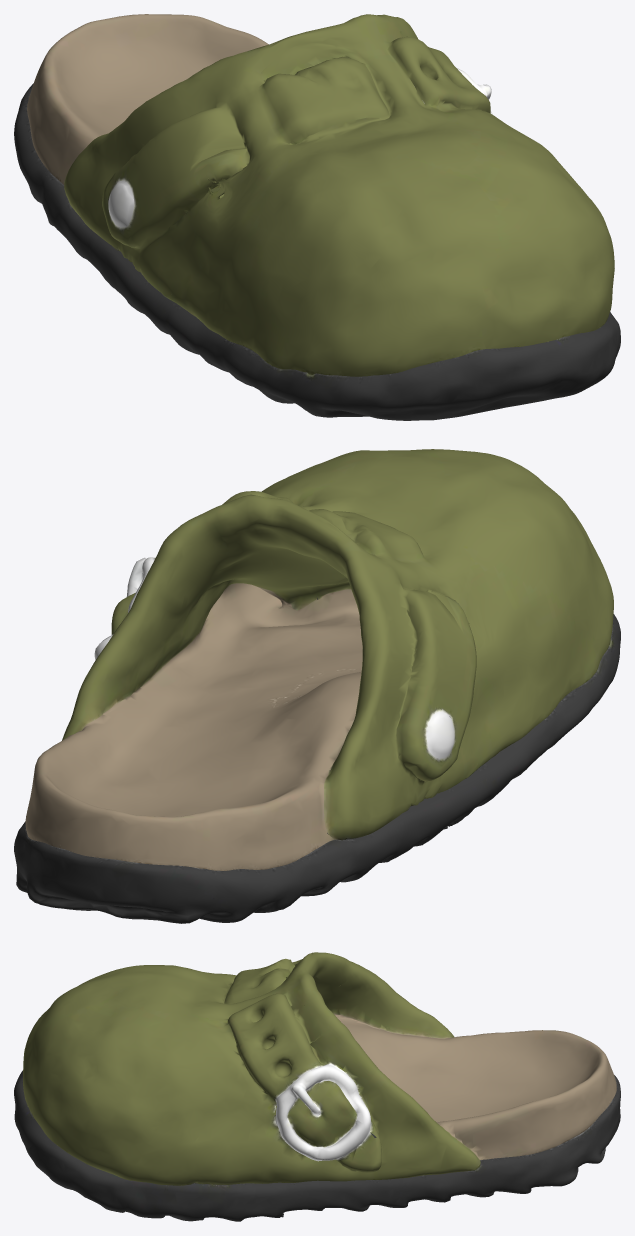
The model's file is clay-slide.glb.
The picture shows the model from 3 angles, top to bottom: view 1: azimuth 30°, elevation 25°; view 2: azimuth 150°, elevation 25°; view 3: azimuth 270°, elevation 25°; orthographic projection. The views are drawn at different scales.
Visible parts, largest first — view 1: Torus 2; view 2: Torus 2; view 3: Torus 2.
Boxes of the visible parts, x1,y1,x2,y2 form: Torus 2: (14, 14, 620, 420); Torus 2: (14, 449, 620, 923); Torus 2: (14, 952, 620, 1221).
Size of the model in its own units: 406 by 318 by 836.
Materials: 1 (1 with a texture image).
